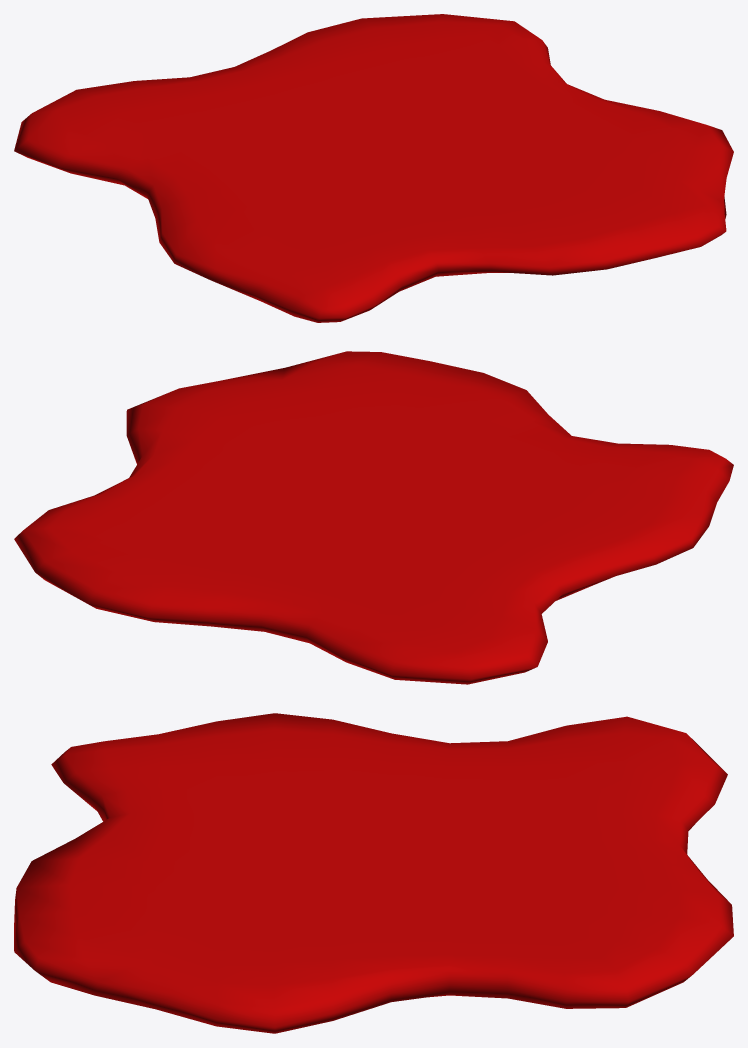
The model's file is cokolada.fbx.
3 renders of one model, top to bottom at view 1: azimuth 30°, elevation 25°; view 2: azimuth 150°, elevation 25°; view 3: azimuth 270°, elevation 25°, orthographic. The views are drawn at different scales.
Visible parts, largest first — view 1: cokolada; view 2: cokolada; view 3: cokolada.
Boxes of the visible parts, x1,y1,x2,y2 form: cokolada: (14, 14, 733, 322); cokolada: (14, 351, 733, 684); cokolada: (14, 713, 733, 1033).
Size of the model in its own units: 279 by 13.38 by 276.
